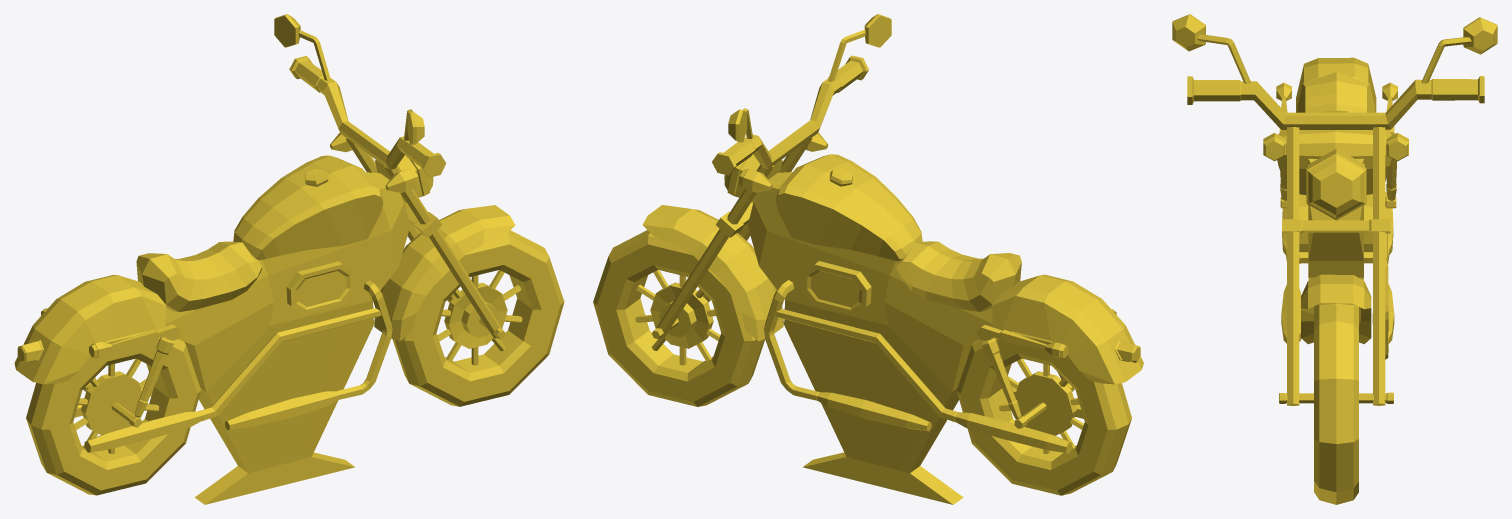
File: EBD_Trophy2.fbx
3 renders of one model, left to right at view 1: azimuth 30°, elevation 25°; view 2: azimuth 150°, elevation 25°; view 3: azimuth 270°, elevation 25°, orthographic. The views are drawn at different scales.
Visible parts, largest first — view 1: EBD_Motorcycle; view 2: EBD_Motorcycle; view 3: EBD_Motorcycle.
Part boxes in pixels (x1,y1,x2,y2): EBD_Motorcycle: (14, 14, 564, 504); EBD_Motorcycle: (593, 14, 1143, 504); EBD_Motorcycle: (1172, 14, 1497, 504).
Bounding box in the file's own units: 294 × 209 × 139.
